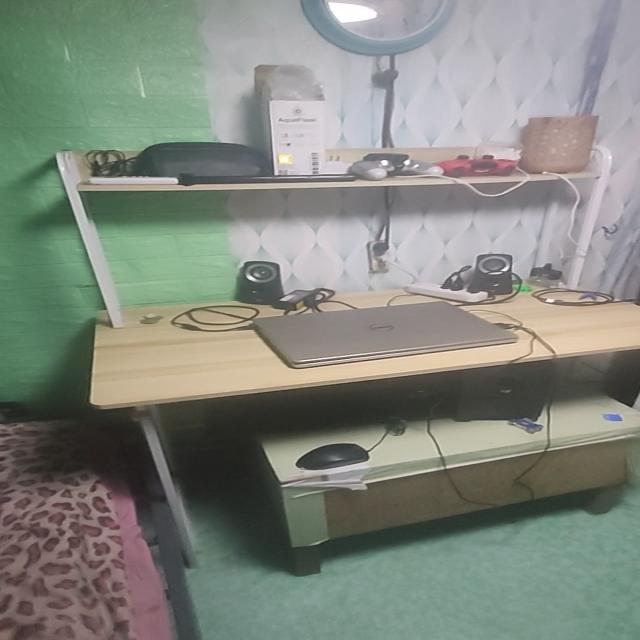table: (85, 259, 640, 569)
